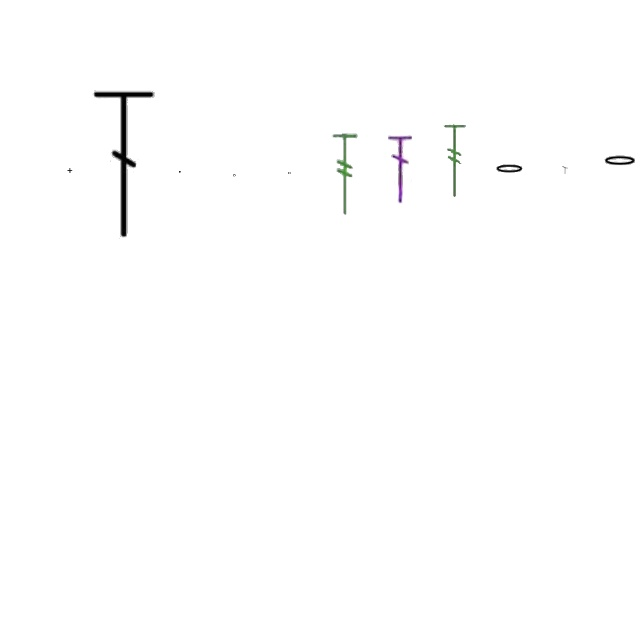chain: (602, 154, 638, 168), (494, 163, 526, 175), (234, 174, 236, 178), (288, 172, 292, 174), (179, 171, 181, 173)
double: (67, 168, 73, 174)
double treble: (92, 85, 158, 243), (388, 132, 412, 204)
enseble_chain: (562, 166, 568, 174)
fan: (330, 132, 360, 218), (441, 121, 469, 201)
